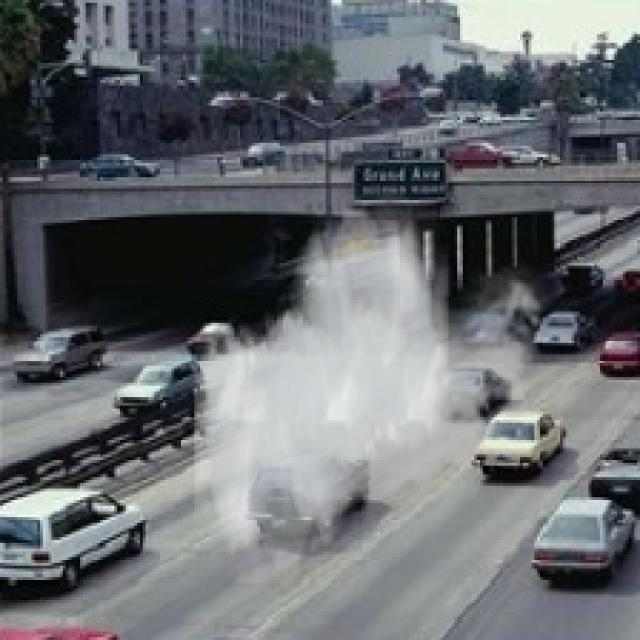smoke: (195, 194, 554, 583)
